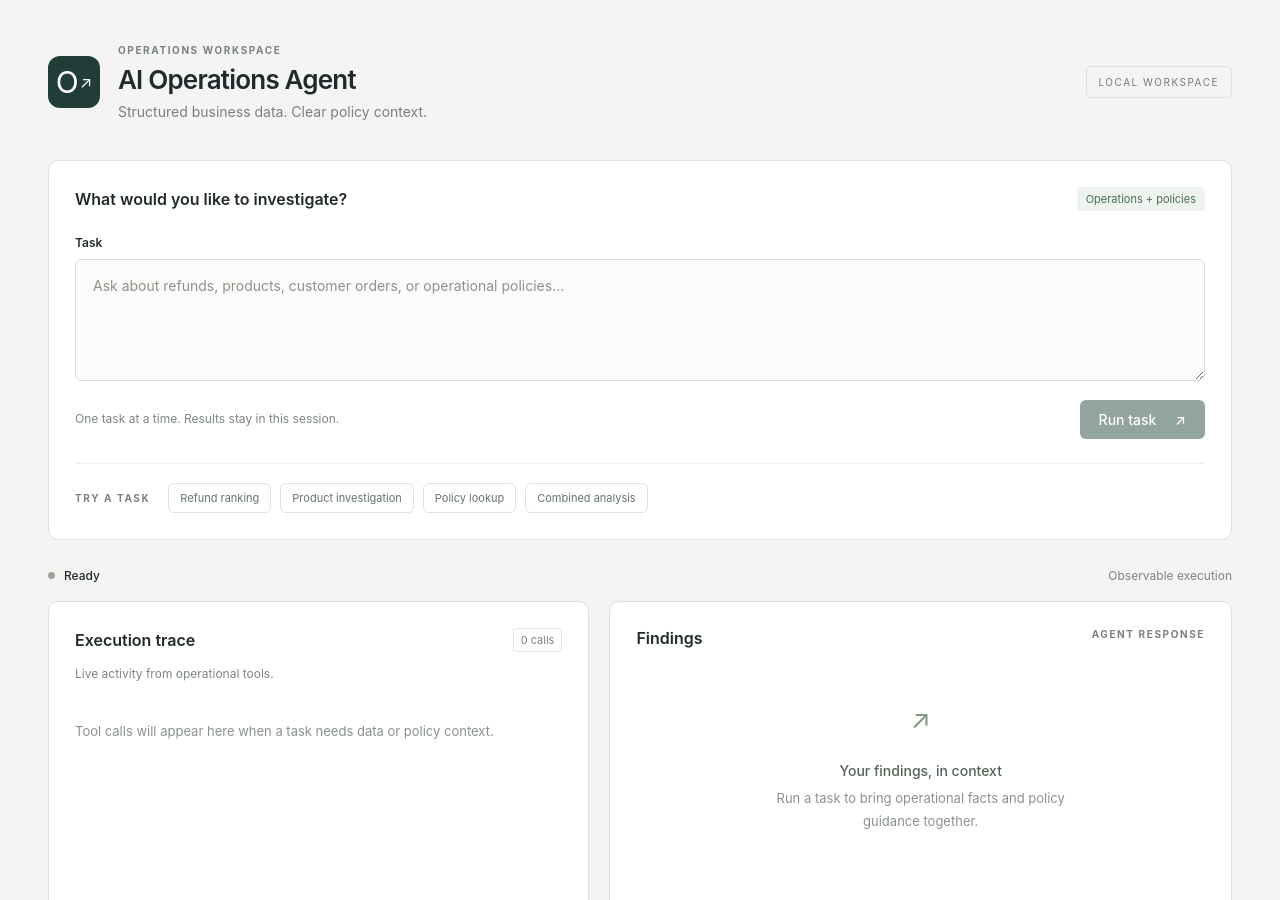
prevents duplicate submits and can cancel then restart
Replace the text in the text box labelled "Task" with "Investigate refunds" at (640, 320), box 75,259 -> 1205,381
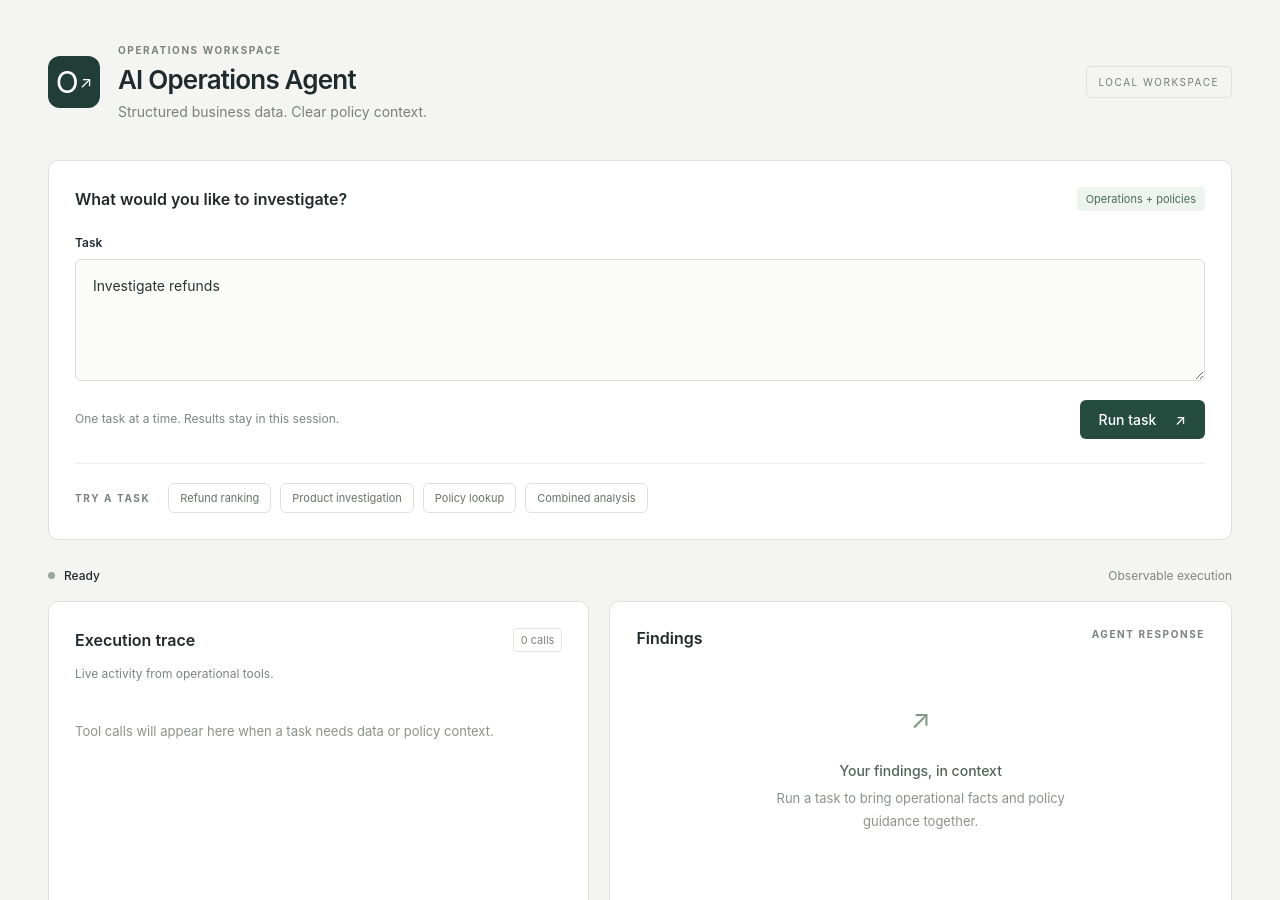
Click the button "Run task ↗" at (1142, 419), box 1080,400 -> 1205,439
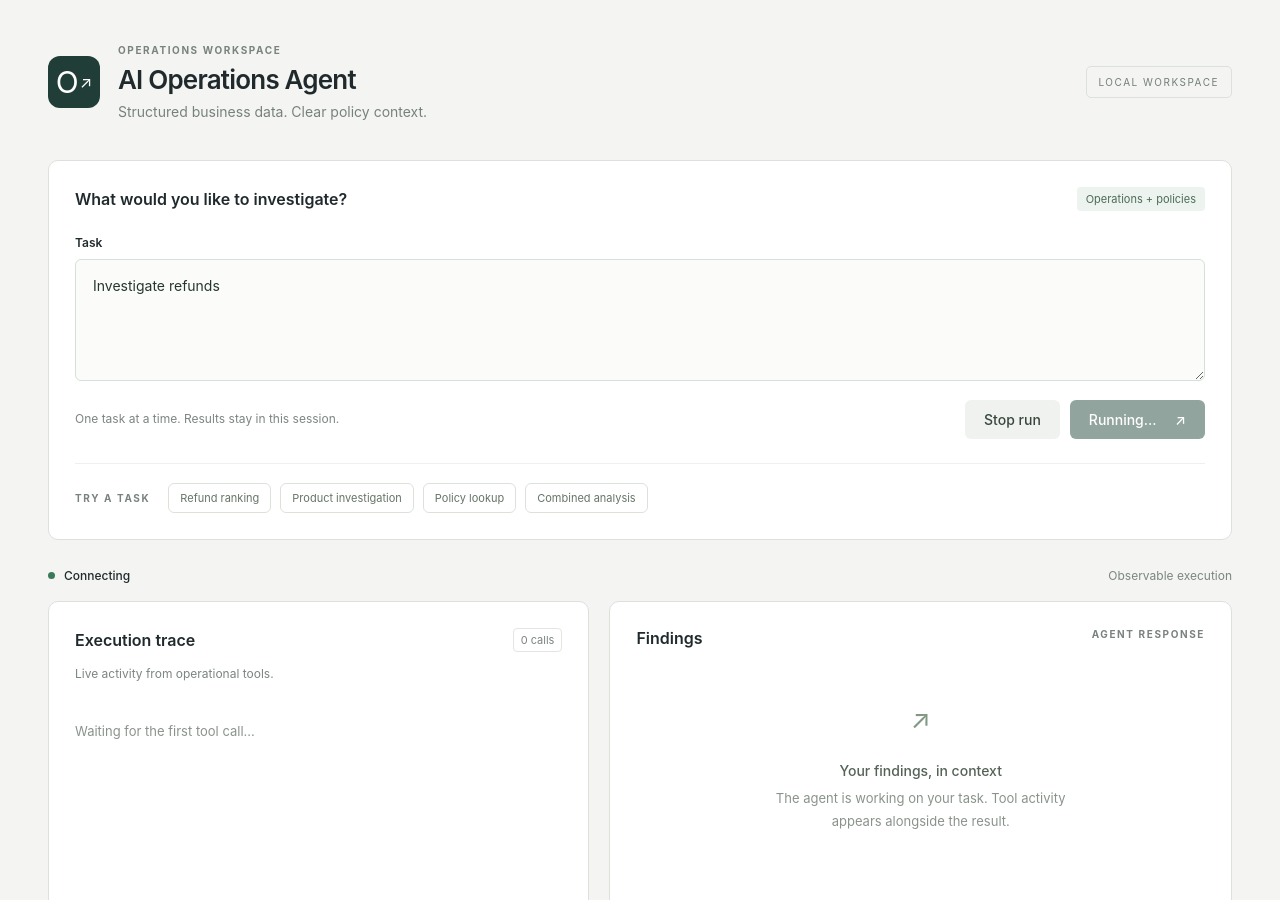
Submit the form labelled "Task", box 75,235 -> 1205,439
Click the button "Stop run" at (1012, 419), box 965,400 -> 1060,439
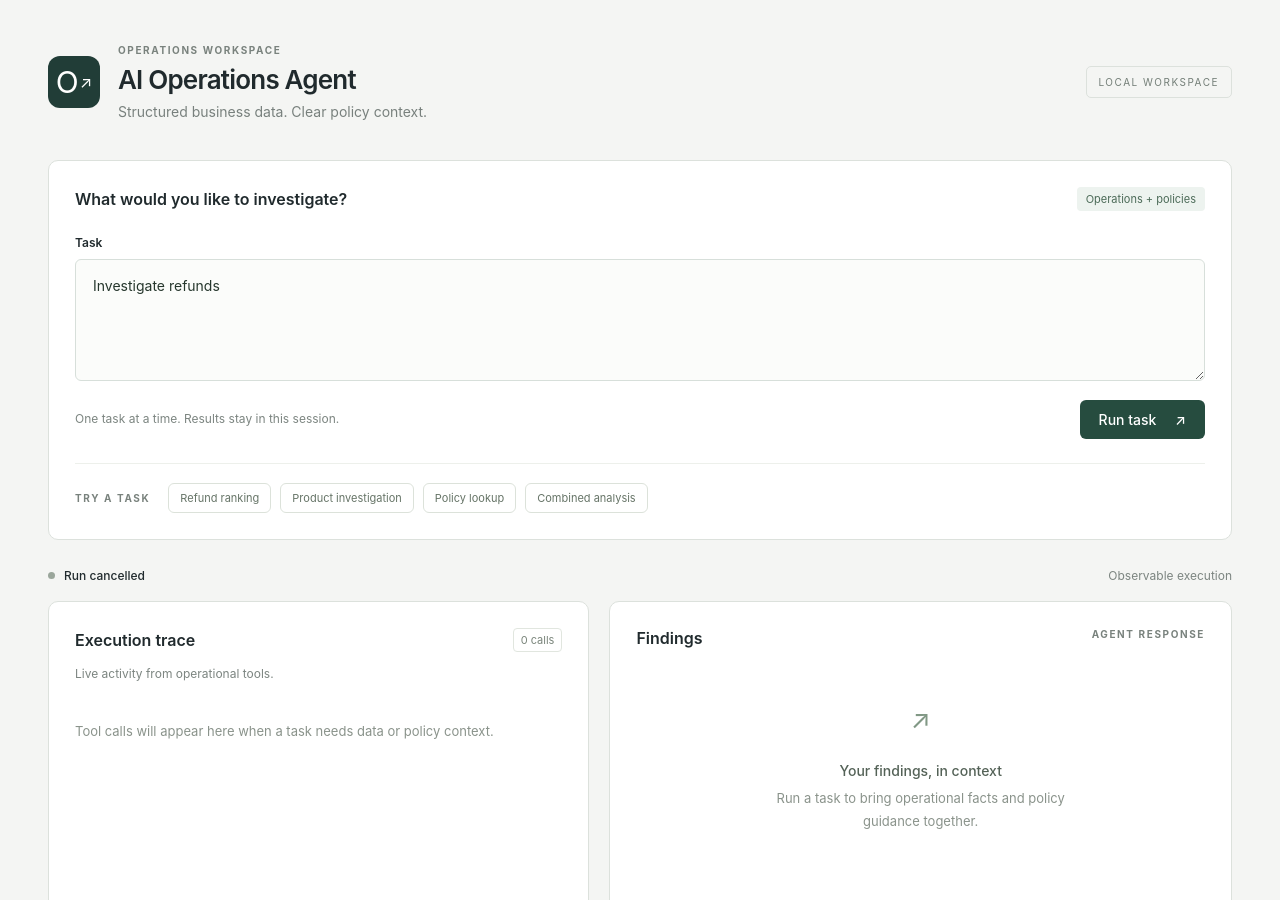
expect the text "Run cancelled" is shown: met, box 64,568 -> 145,583
Replace the text in the text box labelled "Task" with "Hello" at (640, 320), box 75,259 -> 1205,381
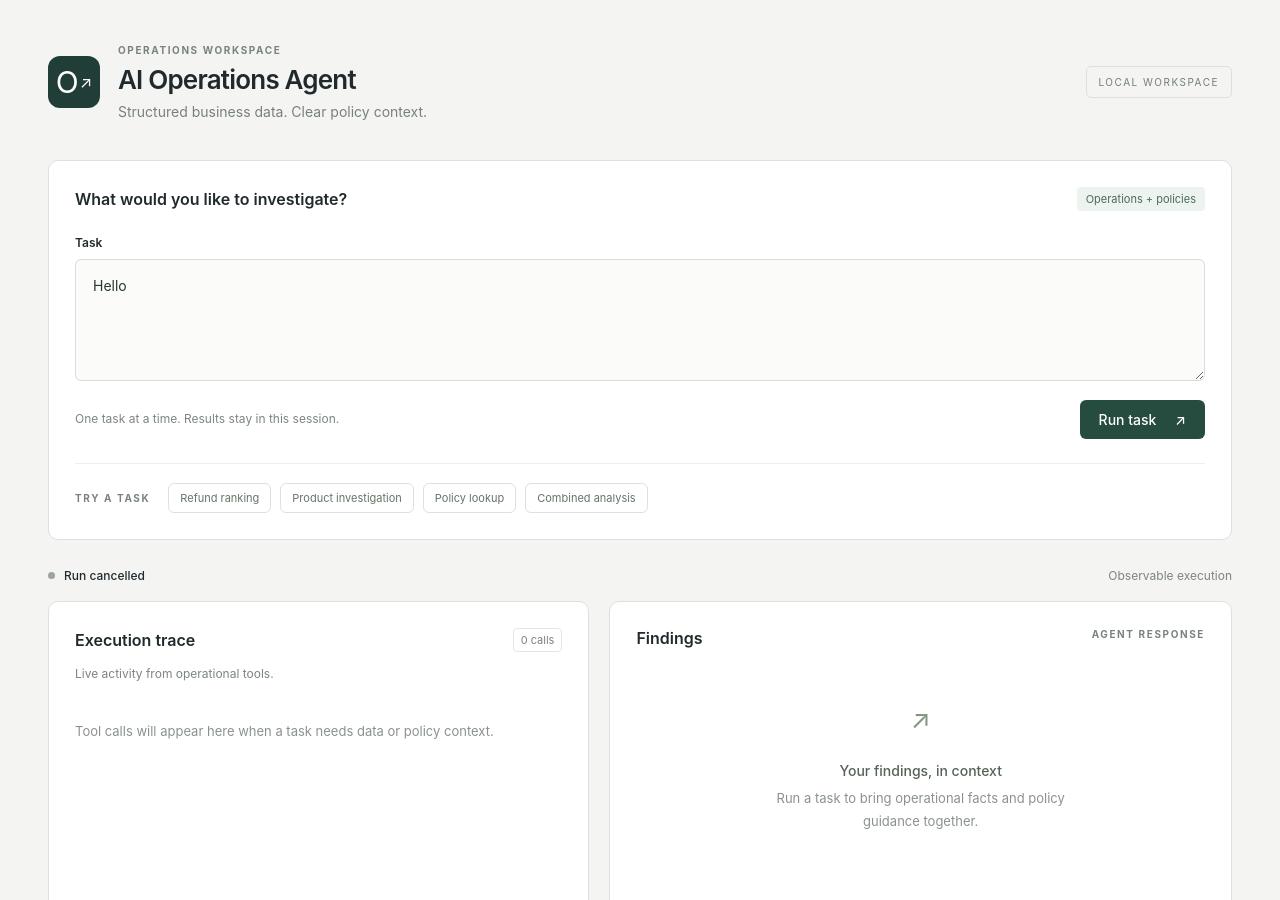
Click the button "Run task ↗" at (1142, 419), box 1080,400 -> 1205,439
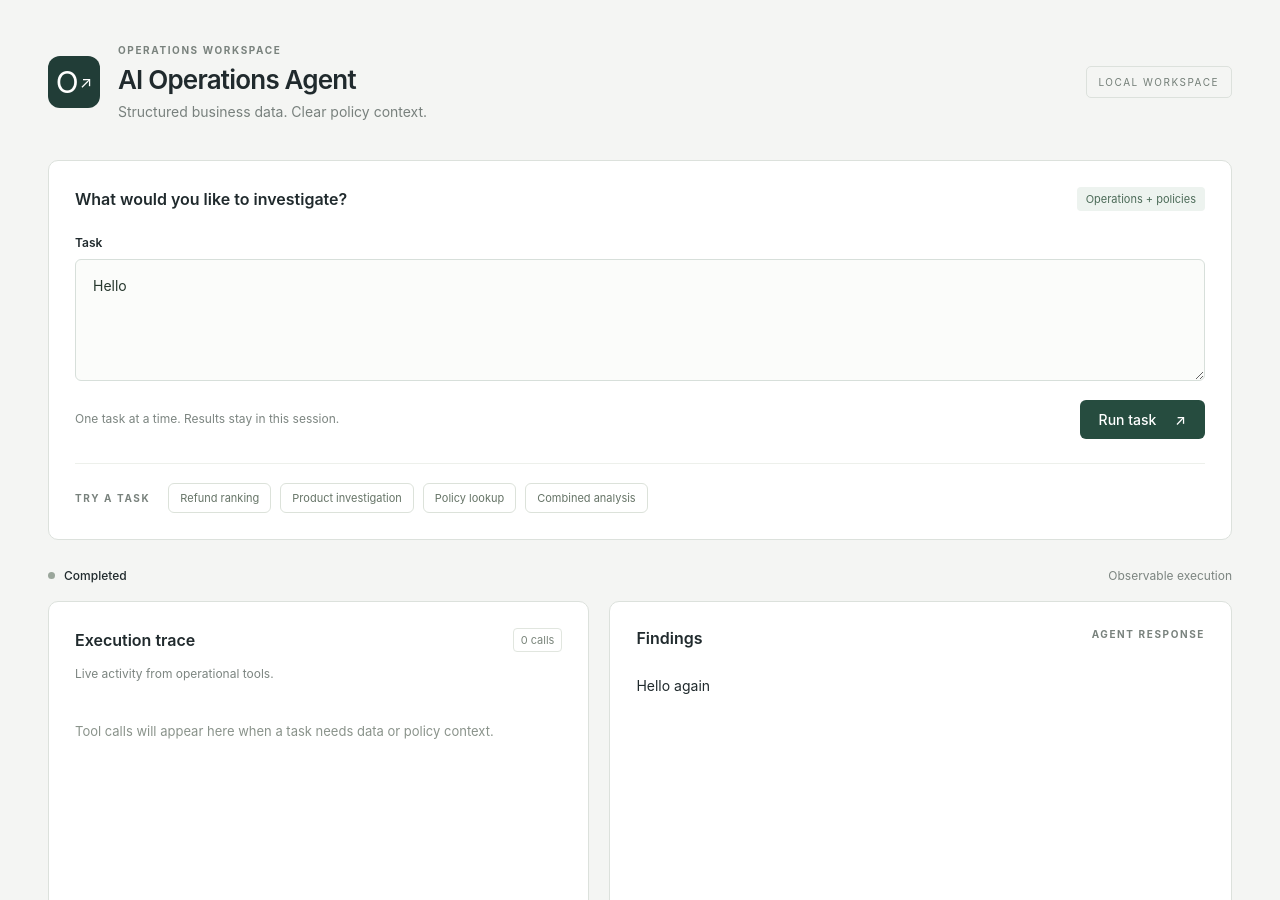
expect the text "Hello again" is shown: met, box 636,677 -> 710,694
